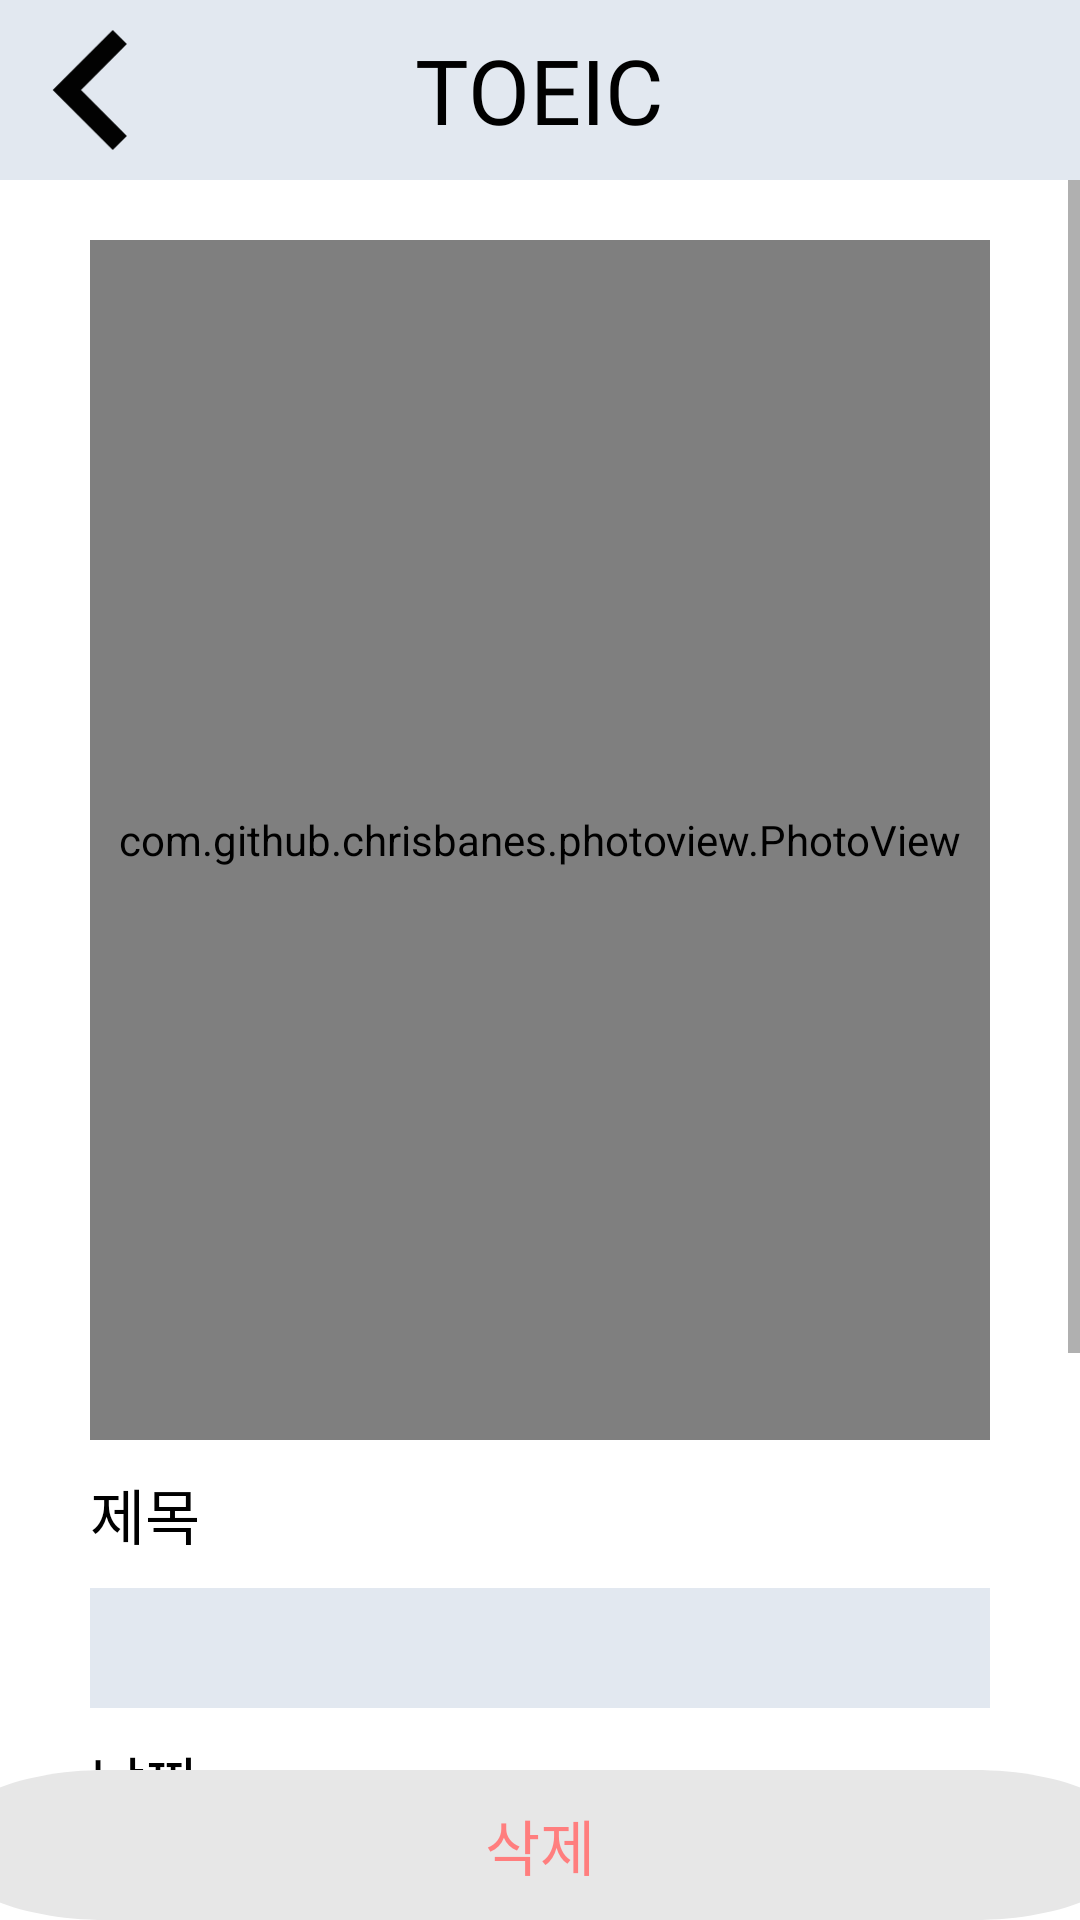

Screen size 1080px x 1920px. Icon name, then its center in pixels as (x=x, y=y):
back: (x=90, y=90)
